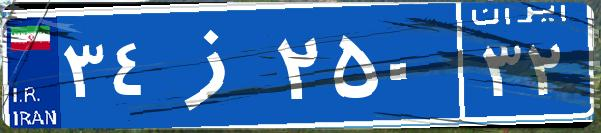0: (385, 28, 445, 110)
2: (273, 28, 330, 110), (525, 38, 570, 115)
3: (57, 26, 110, 107), (475, 38, 525, 113)
4: (110, 28, 158, 105)
5: (330, 28, 385, 110)
ز: (158, 15, 273, 115)
